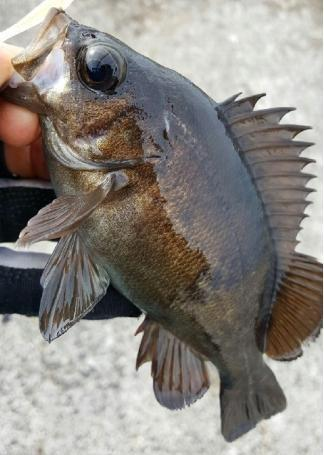fish: (0, 9, 323, 444)
